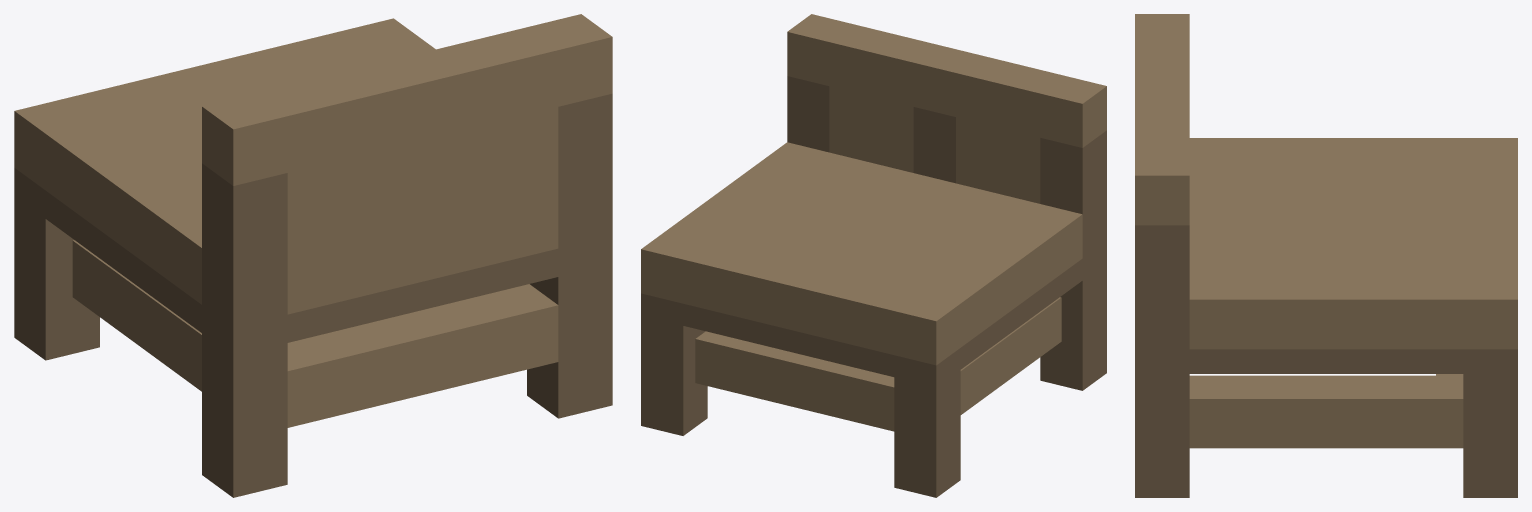
File: reclinatorio_01.glb
The picture shows the model from 3 angles, left to right: view 1: azimuth 30°, elevation 25°; view 2: azimuth 150°, elevation 25°; view 3: azimuth 270°, elevation 25°; orthographic projection. The views are drawn at different scales.
Parts seen in each view (by area): view 1: reclinatorio; view 2: reclinatorio; view 3: reclinatorio.
Boxes of the visible parts, <box> form: reclinatorio: <box>14,14,612,497</box>; reclinatorio: <box>641,14,1106,497</box>; reclinatorio: <box>1135,14,1517,497</box>.
Size of the model in its own units: 1 by 0.9286 by 1.
